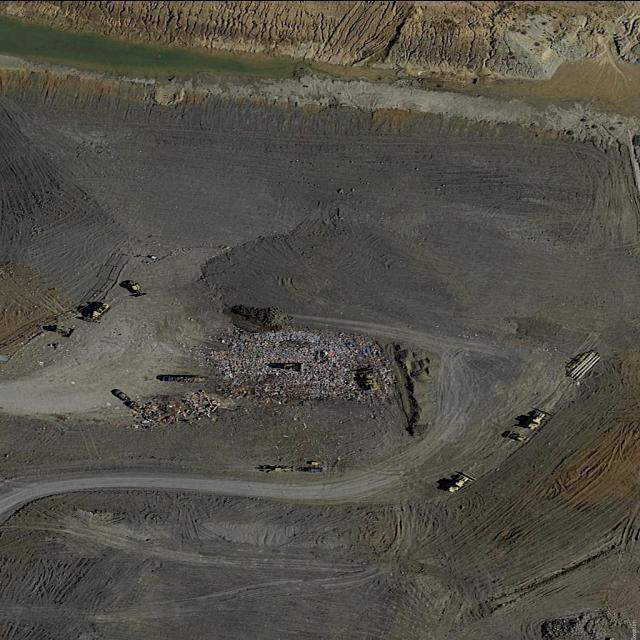dump_site: (207, 329, 396, 405), (120, 378, 245, 434)
